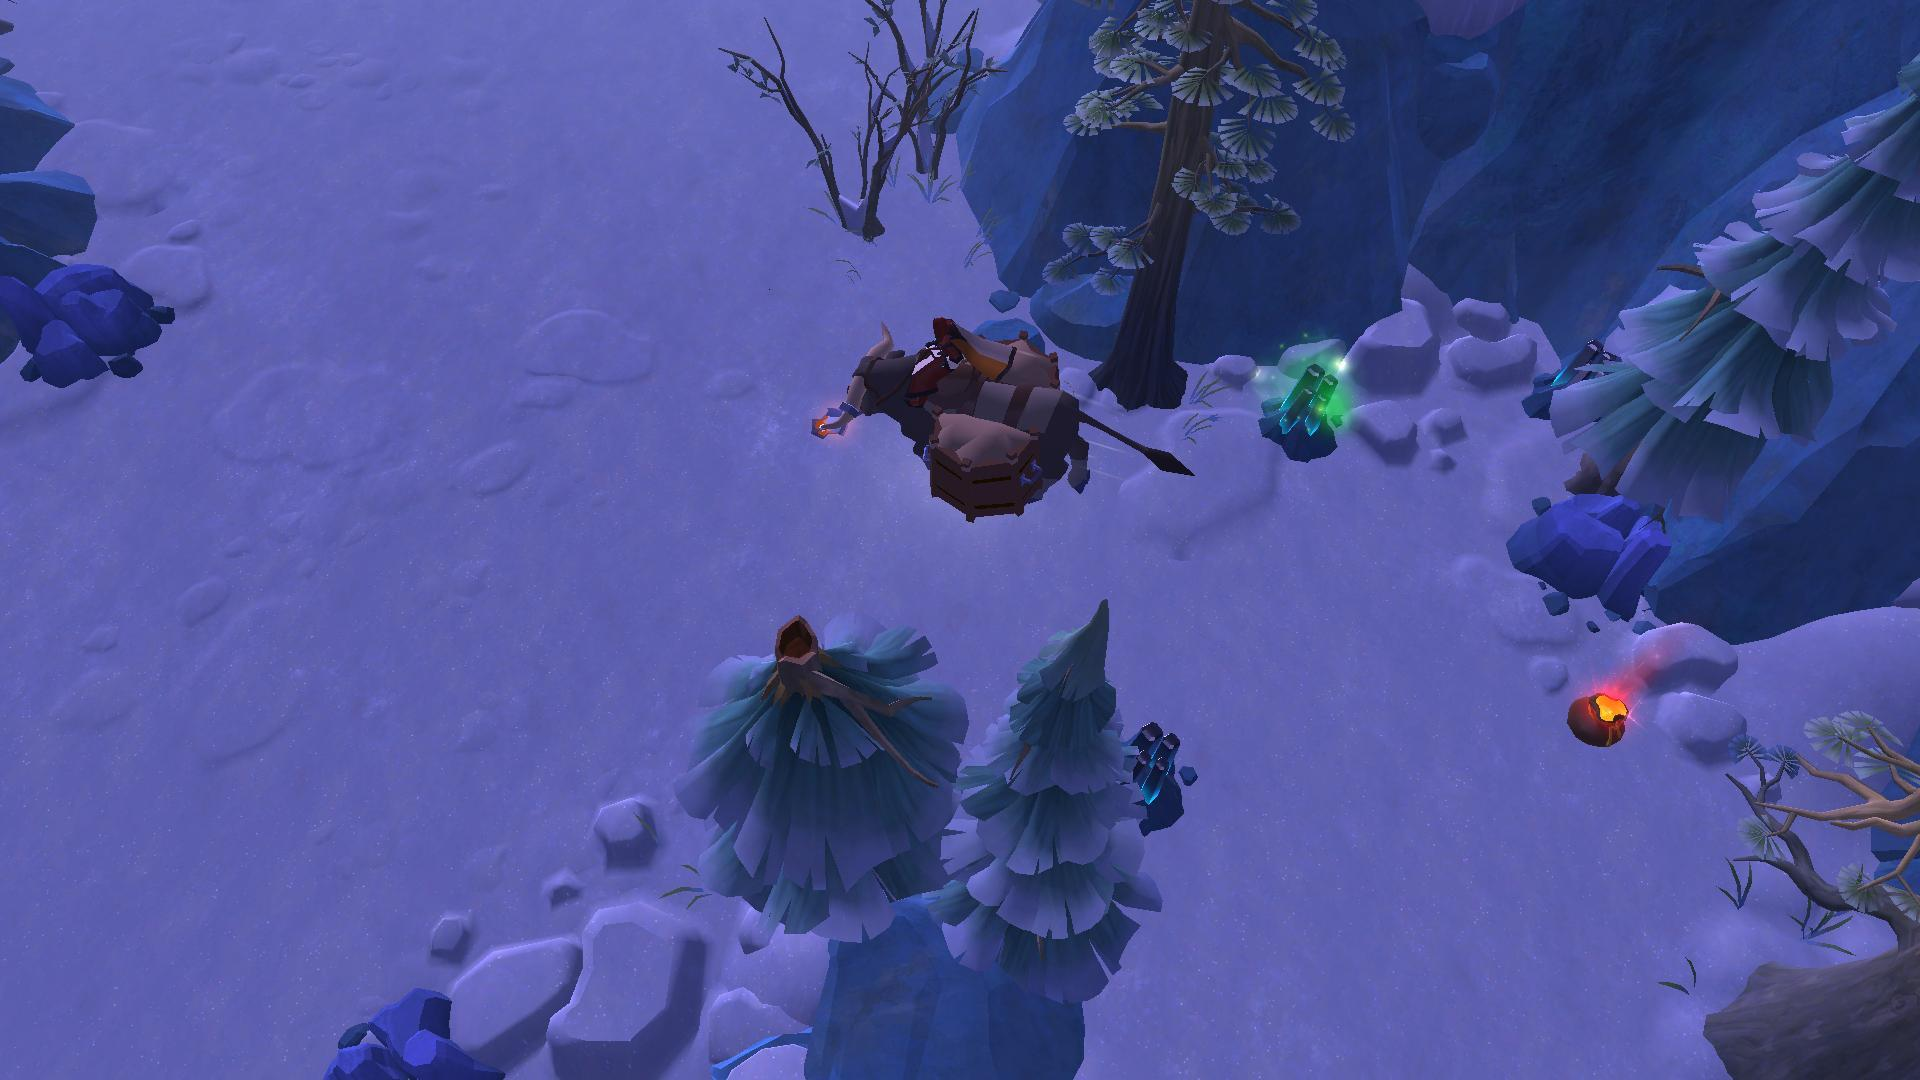ore_t4: (1531, 343, 1627, 413), (1271, 365, 1344, 442), (1118, 723, 1180, 806)
rock_t4: (0, 247, 174, 380), (1499, 491, 1672, 620), (332, 990, 502, 1080)
